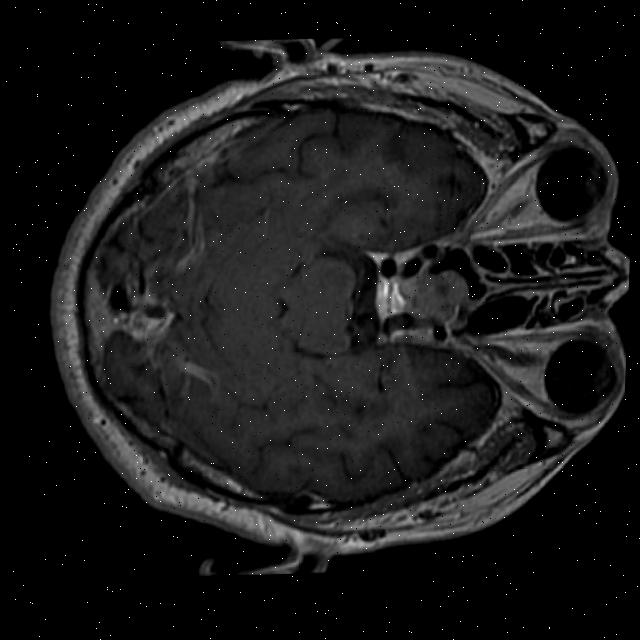Pituitary: (396, 269, 472, 325)
